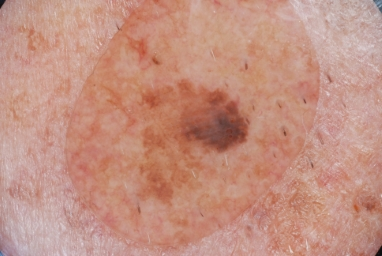seborrheic keratosis: (125, 37, 274, 214)
